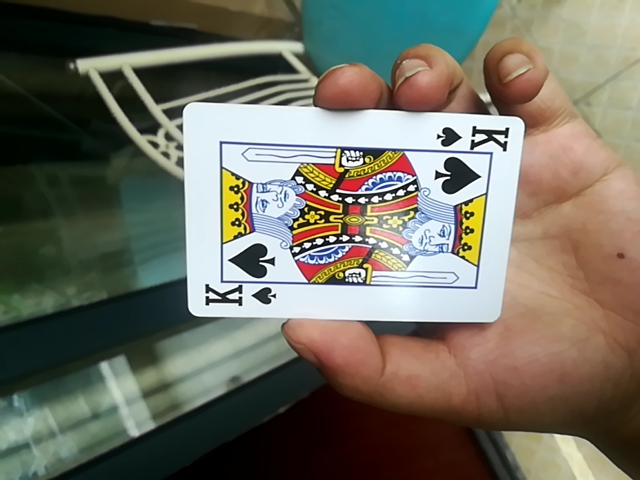ht k: (178, 104, 523, 327)
